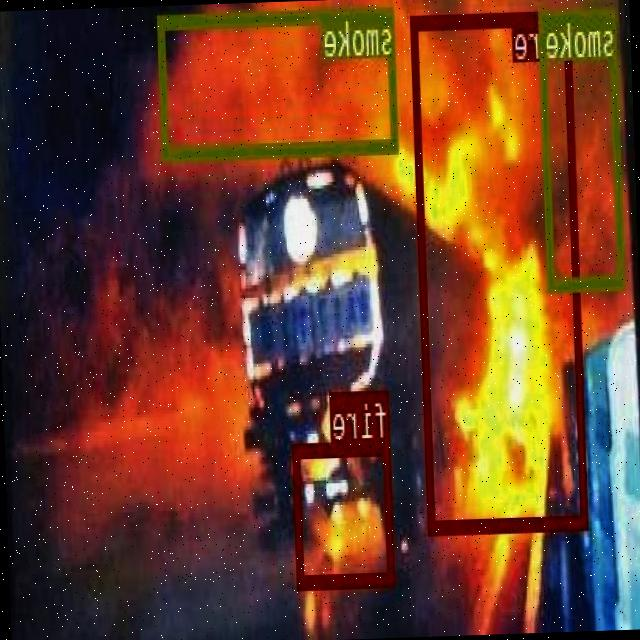fire: (412, 9, 590, 531), (293, 438, 395, 588)
smoke: (159, 4, 399, 158), (540, 5, 626, 288)
